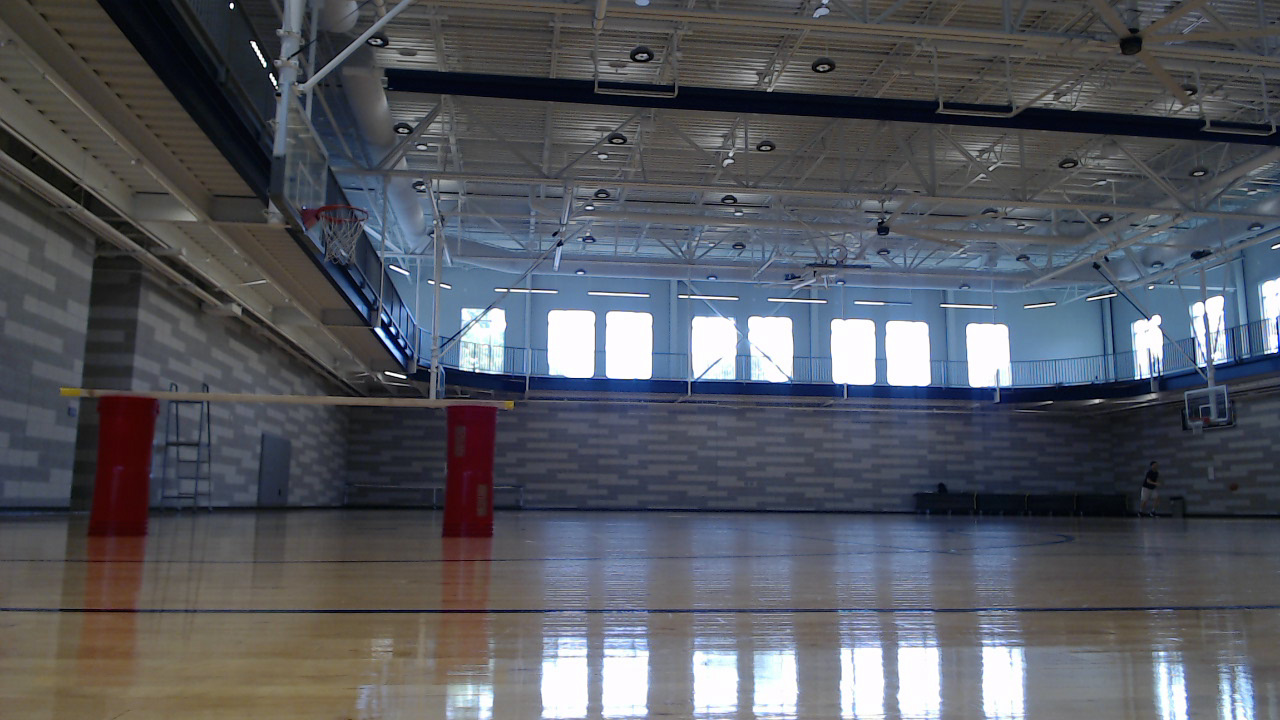red_bucket_arch: (86, 394, 508, 550)
